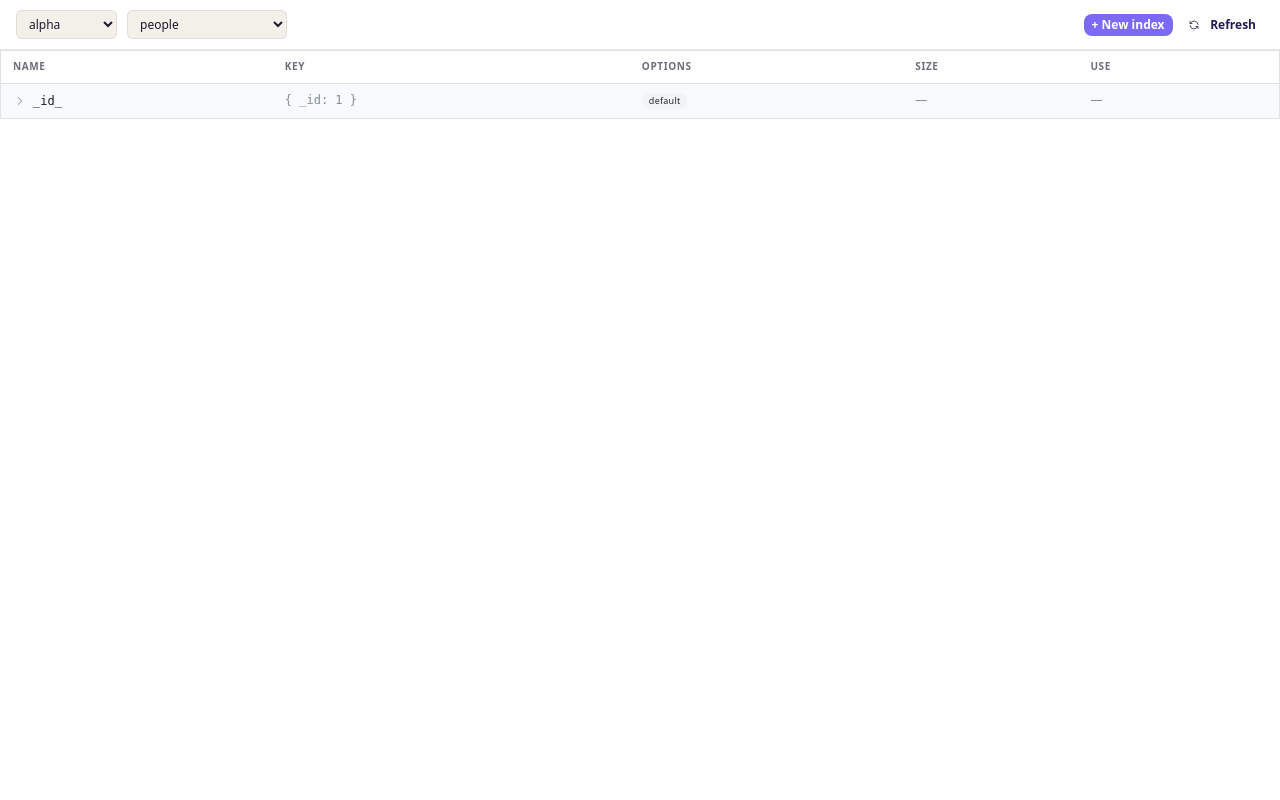
it: IndexesTab — create drawer › keeps the drawer open and shows an inline error on CONFLICT
The image size is (1280, 800).
Expected: the text "_id_" is shown, [33,92,62,110]
Click the button "+ New index" at (1128, 24), box [1084,14,1172,36]
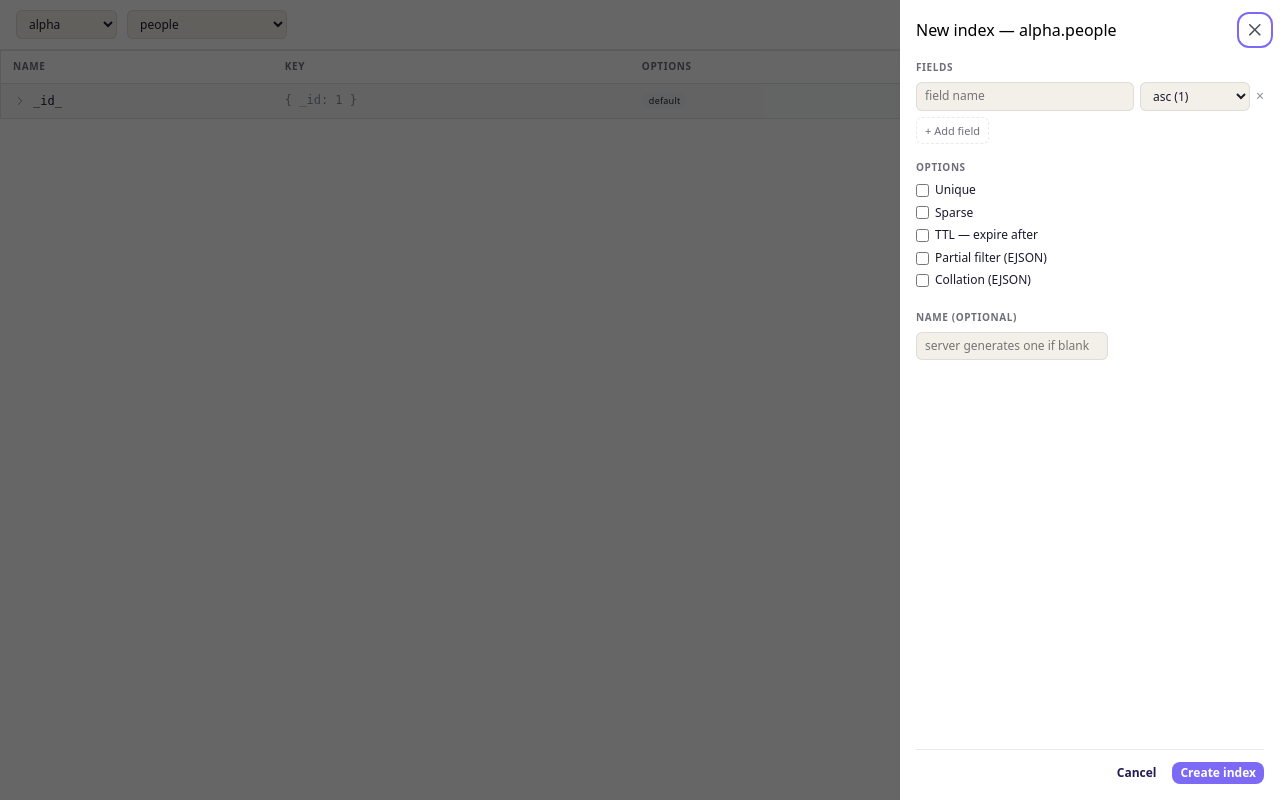
Type "a" into the field named "Field 1" at (1025, 96), box [916,82,1134,110]
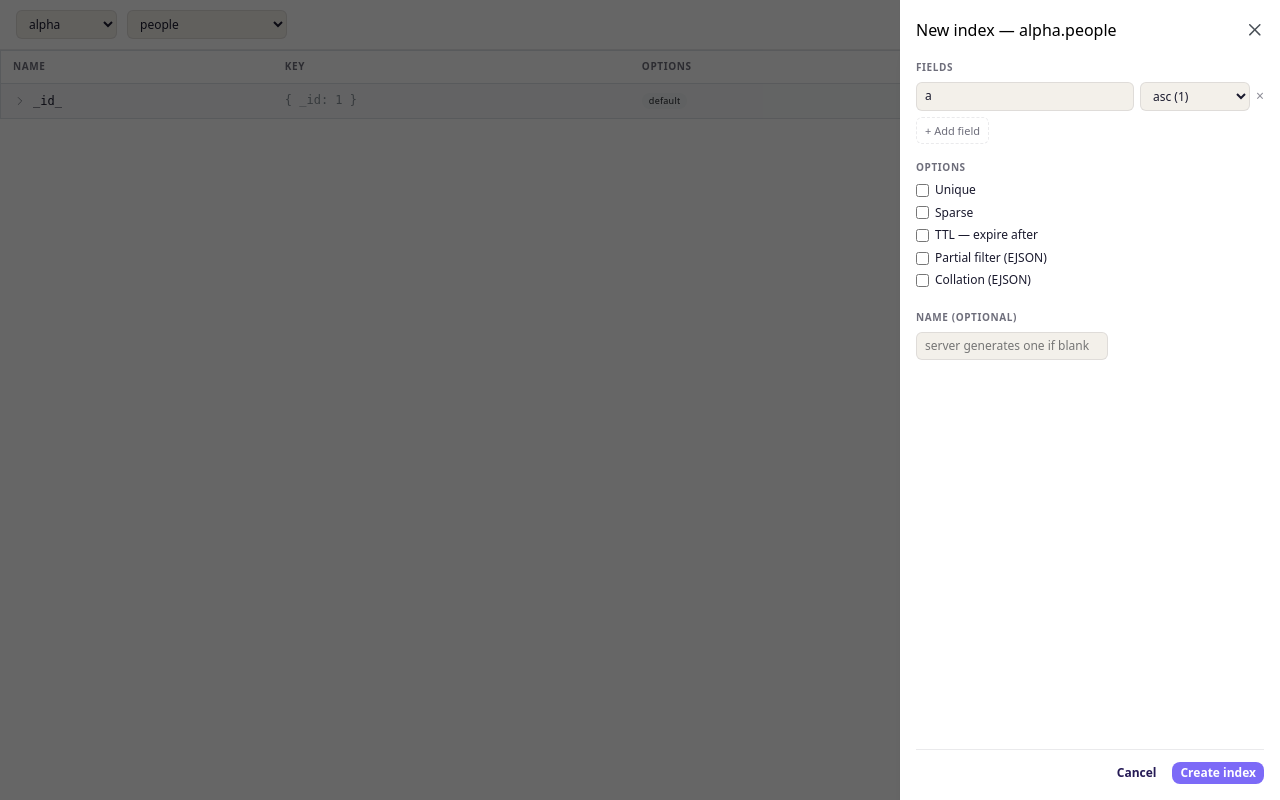
Type "a_1" into the field named "Index name" at (1012, 346), box [916,332,1108,360]
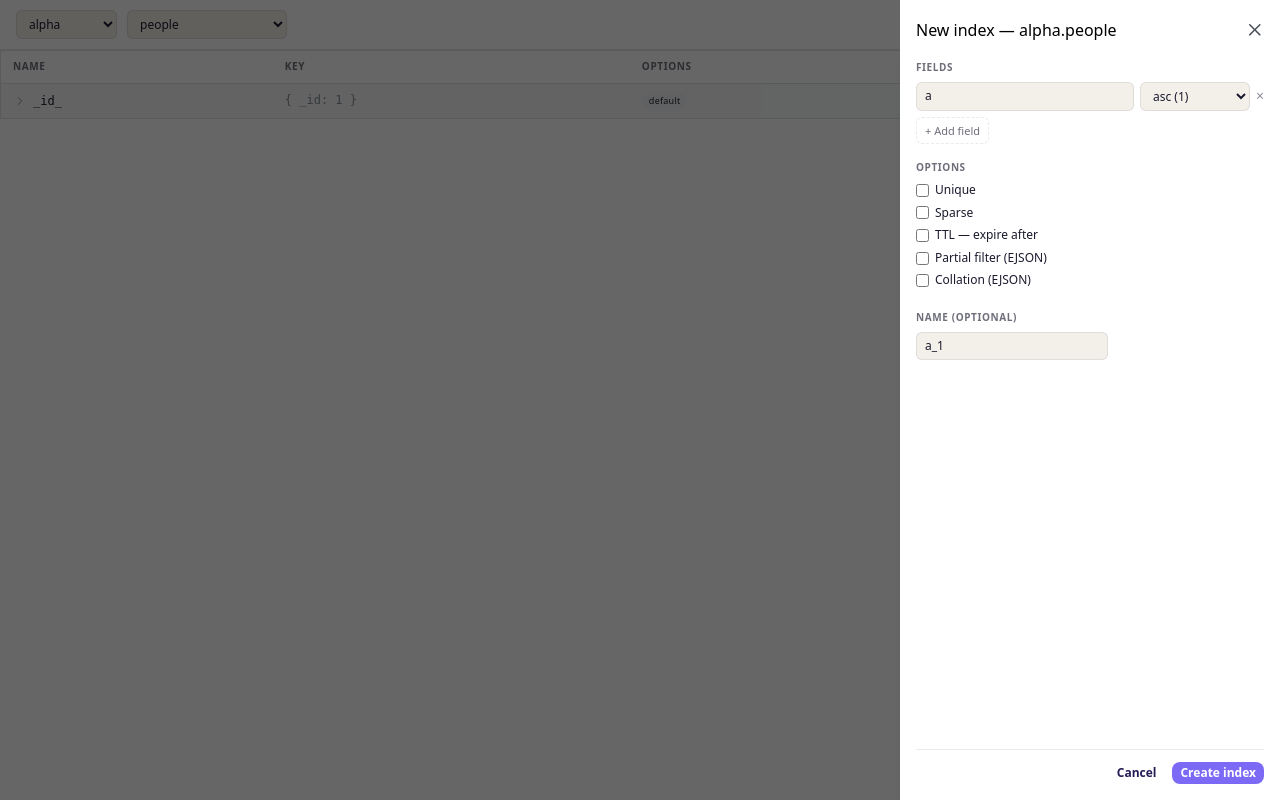
Click the button "Create index" at (1218, 773), box [1172,762,1264,784]
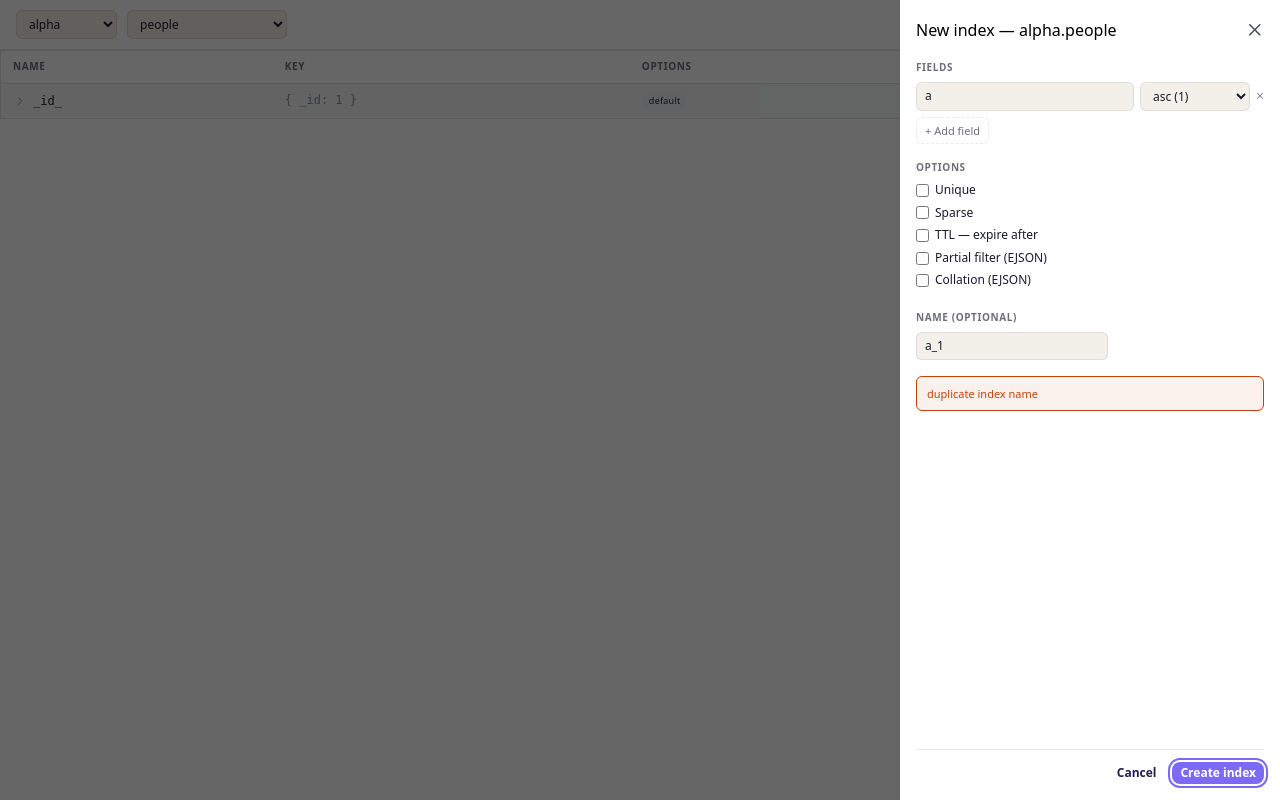
Result: the message shows "duplicate" at [927,386,1038,401]
